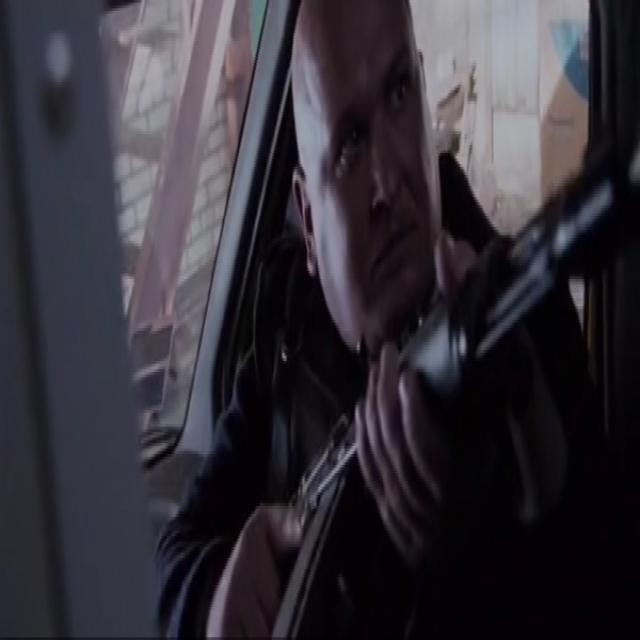rifle: (271, 138, 640, 640)
